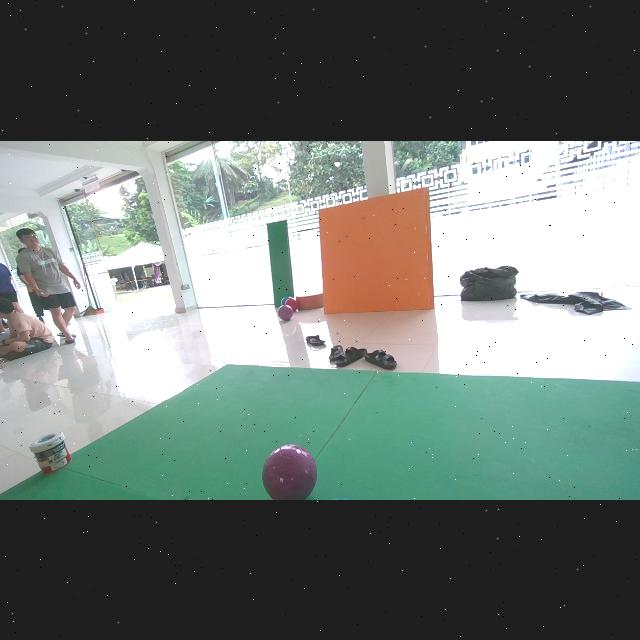P: (263, 443, 318, 499)
